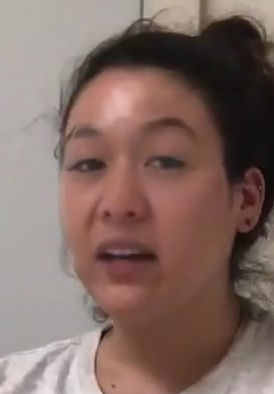eb_f: (62, 113, 202, 178)
